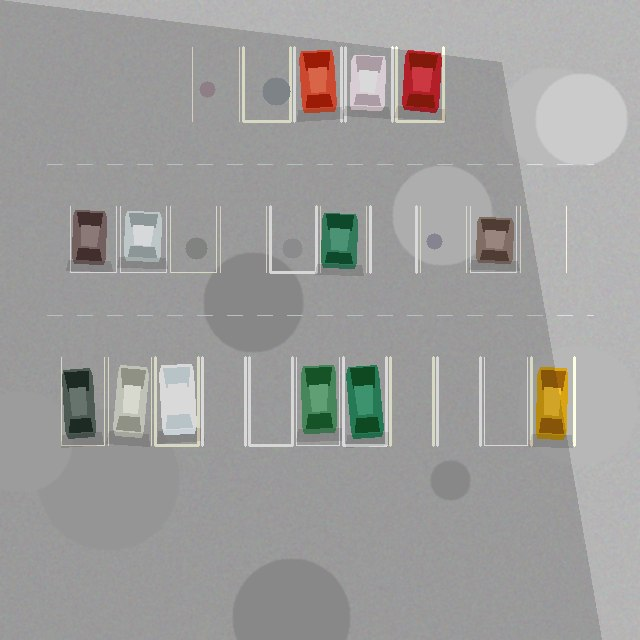space-empty: (202, 357, 245, 445), (249, 357, 292, 445), (390, 357, 433, 445), (437, 357, 480, 445), (484, 357, 527, 445), (192, 47, 239, 121), (243, 47, 290, 121), (170, 206, 216, 272), (220, 206, 266, 272), (270, 206, 316, 272), (370, 206, 416, 272), (420, 206, 466, 272), (520, 206, 566, 272)
space-occupied: (61, 357, 104, 445), (108, 357, 151, 445), (155, 357, 198, 445), (296, 357, 339, 445), (343, 357, 386, 445), (531, 357, 574, 445), (294, 47, 341, 121), (345, 47, 392, 121), (396, 47, 443, 121), (70, 206, 116, 272), (120, 206, 166, 272), (320, 206, 366, 272), (470, 206, 516, 272)
